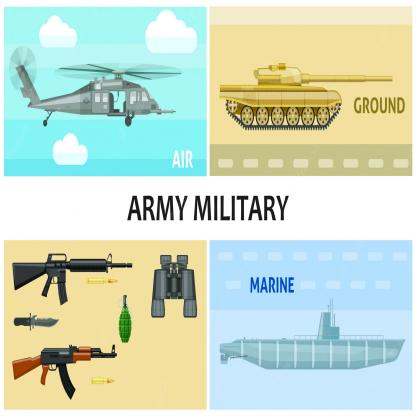Grenade: (118, 292, 132, 344)
Gun: (11, 250, 133, 308), (11, 343, 117, 402)
Knife: (13, 310, 59, 332)
